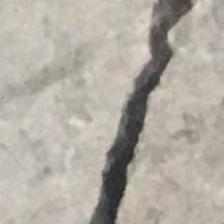Crack: (80, 0, 218, 224)
